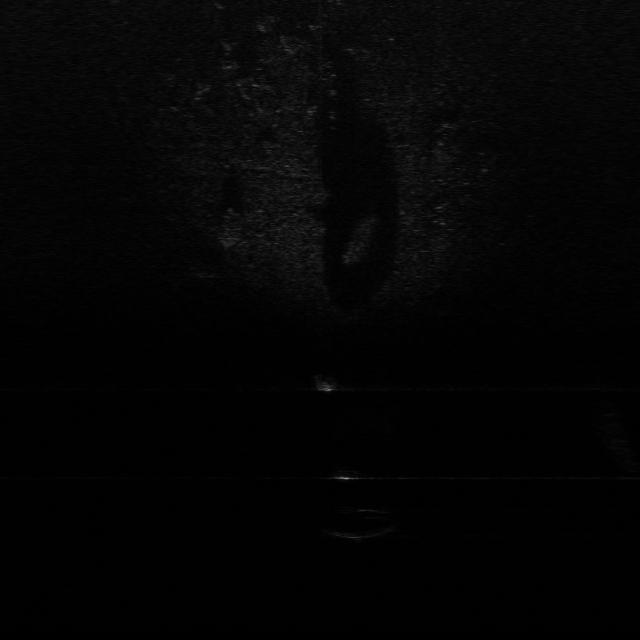cube: (328, 466, 363, 484)
square cage: (310, 372, 340, 394)
tyre: (320, 506, 400, 544)
